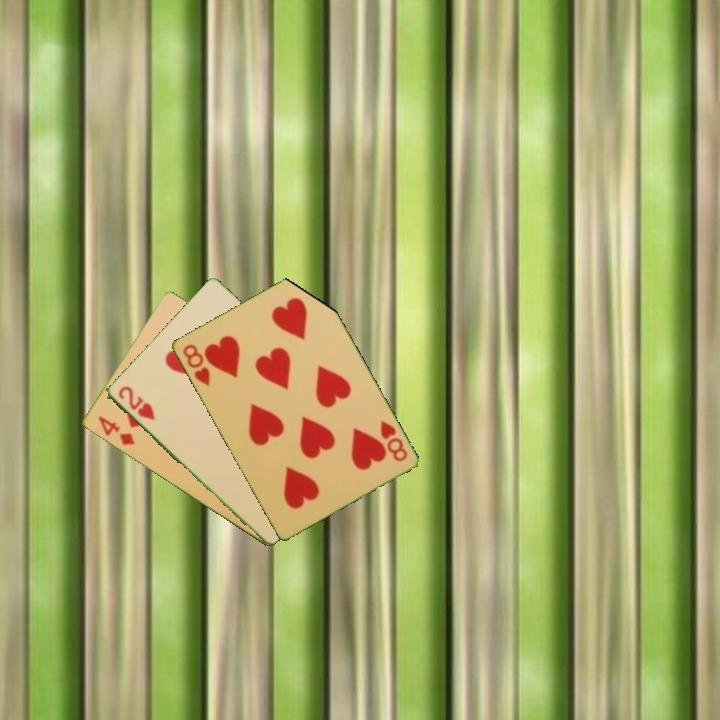2h: (114, 383, 158, 423)
4d: (94, 412, 137, 448)
8h: (179, 340, 213, 389), (376, 417, 410, 465)
